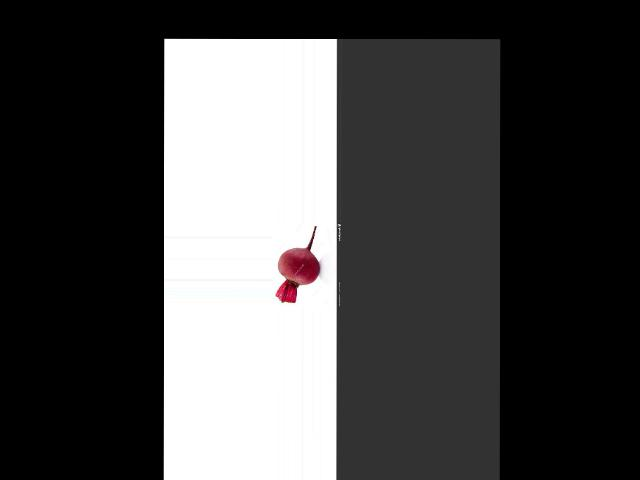beet: (276, 226, 320, 303)
